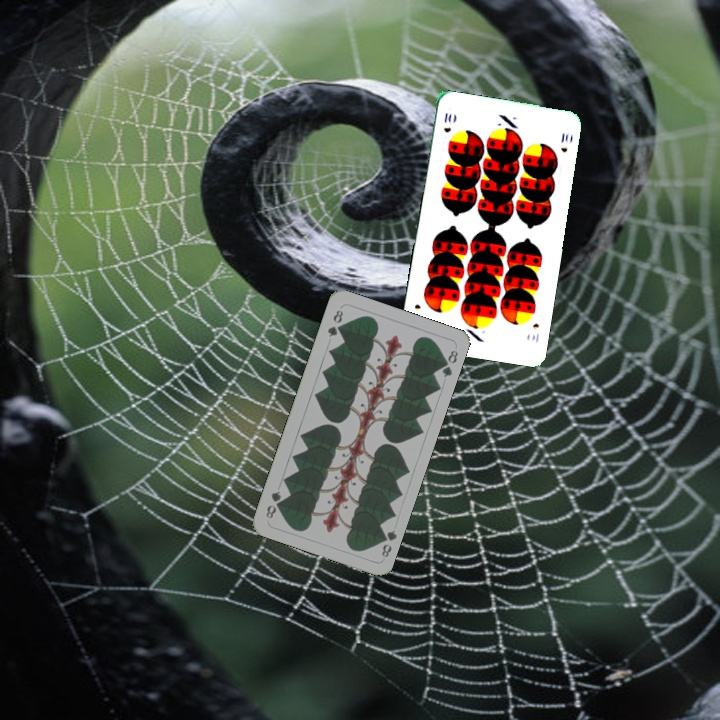G8: (375, 526, 399, 560), (323, 306, 346, 340)
S10: (440, 108, 454, 135), (528, 319, 541, 345)
